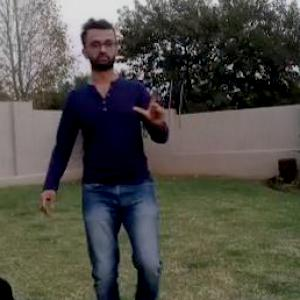land_hand: (129, 79, 169, 131)
